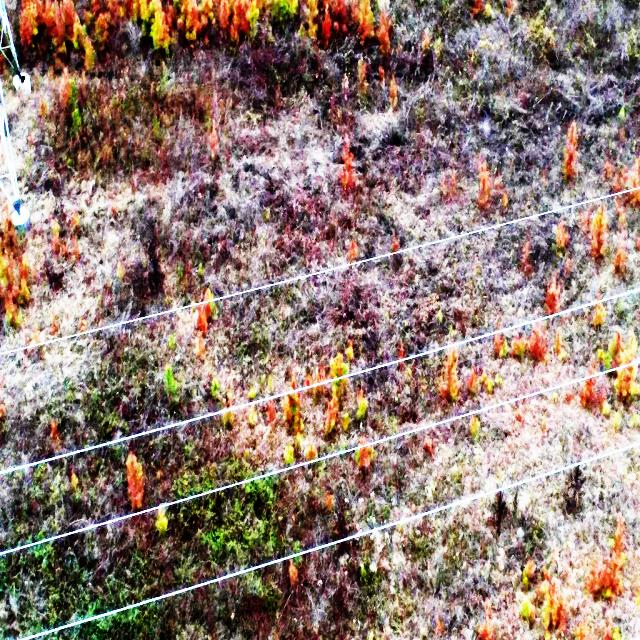wires: (0, 359, 640, 558), (21, 440, 640, 640), (0, 284, 640, 476), (0, 185, 640, 360)
